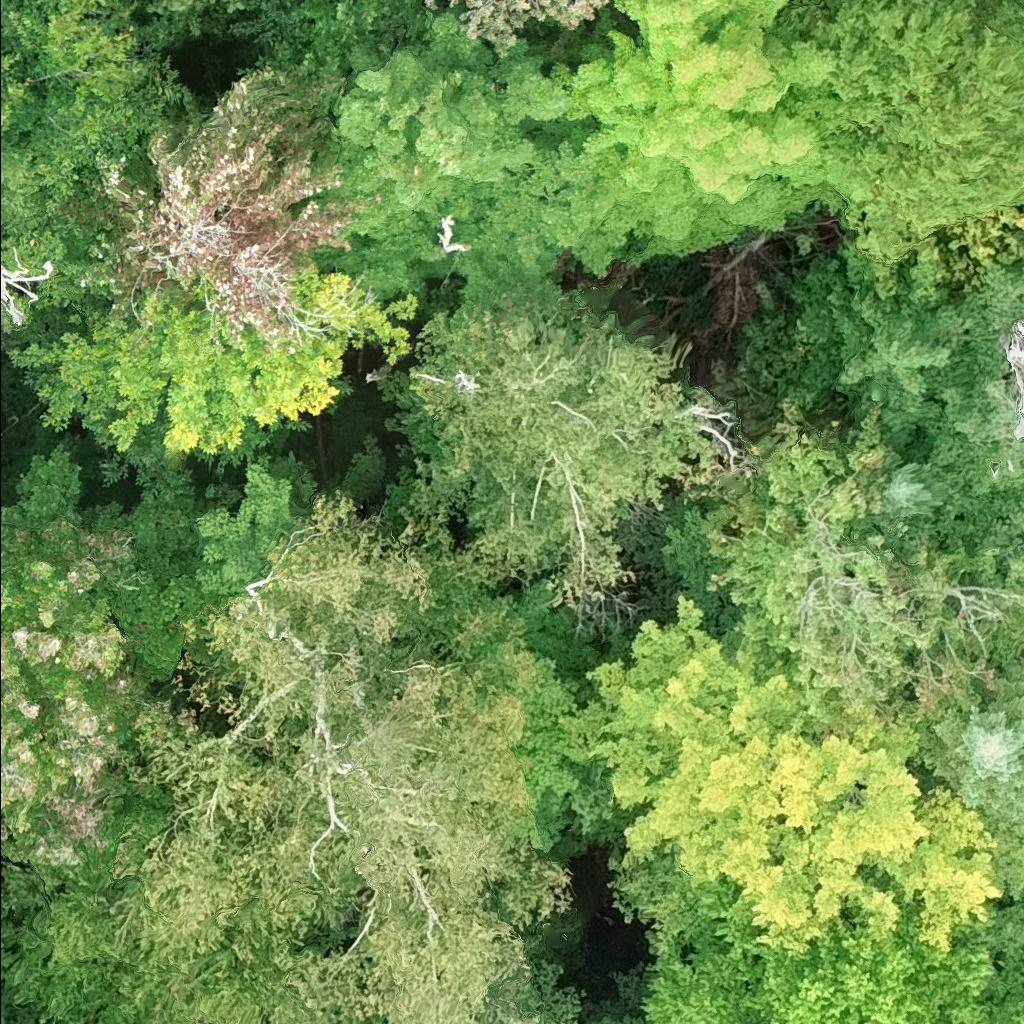crown: (115, 485, 581, 1023), (554, 591, 1007, 968), (699, 391, 1023, 735), (477, 0, 859, 274), (379, 298, 706, 600), (64, 60, 380, 358), (9, 263, 418, 463), (311, 10, 576, 301), (0, 791, 324, 1023), (777, 0, 1023, 293), (0, 441, 153, 870), (0, 0, 200, 303), (791, 230, 1023, 449), (639, 913, 1023, 1023), (917, 663, 1023, 827), (457, 0, 605, 56), (881, 450, 962, 546), (475, 976, 582, 1023), (0, 889, 11, 959), (447, 0, 456, 2)
